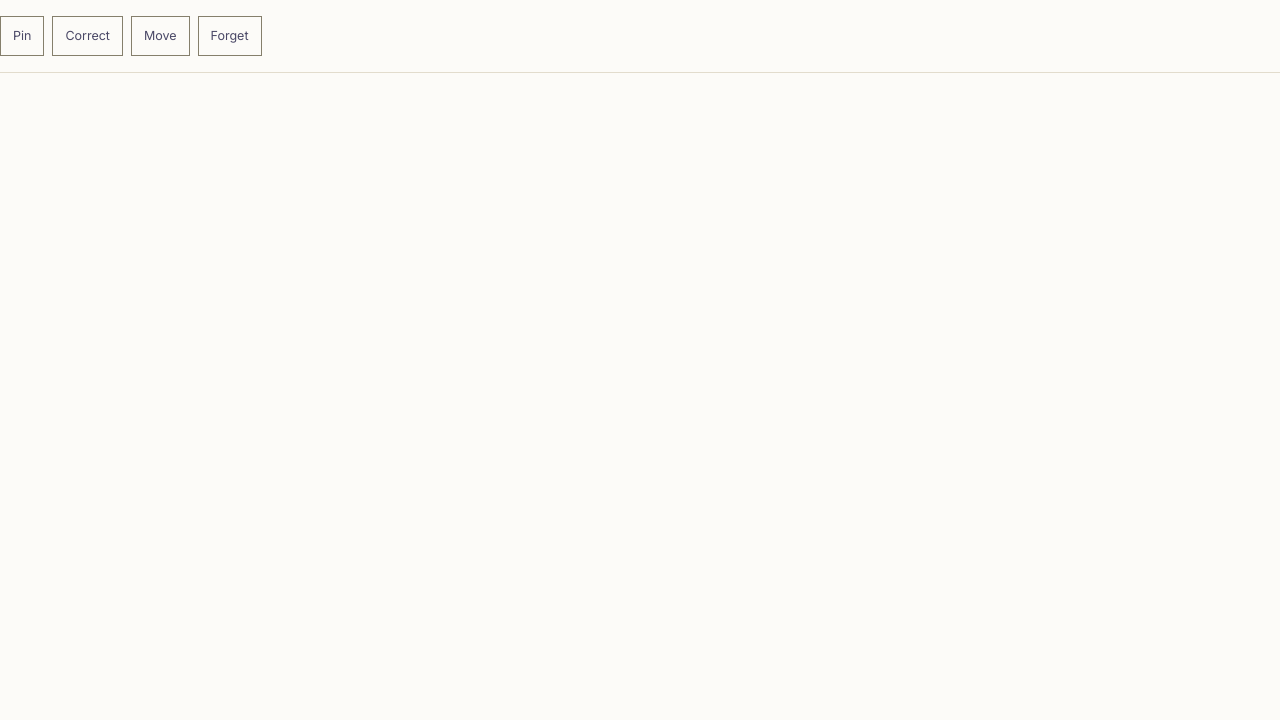
forget explains it closes validity, not a deletion, and cancelling sends nothing
The image size is (1280, 720).
Later steps or results of the test are not shown.
Click the button "Forget" at (230, 36), box [198,16,262,56]
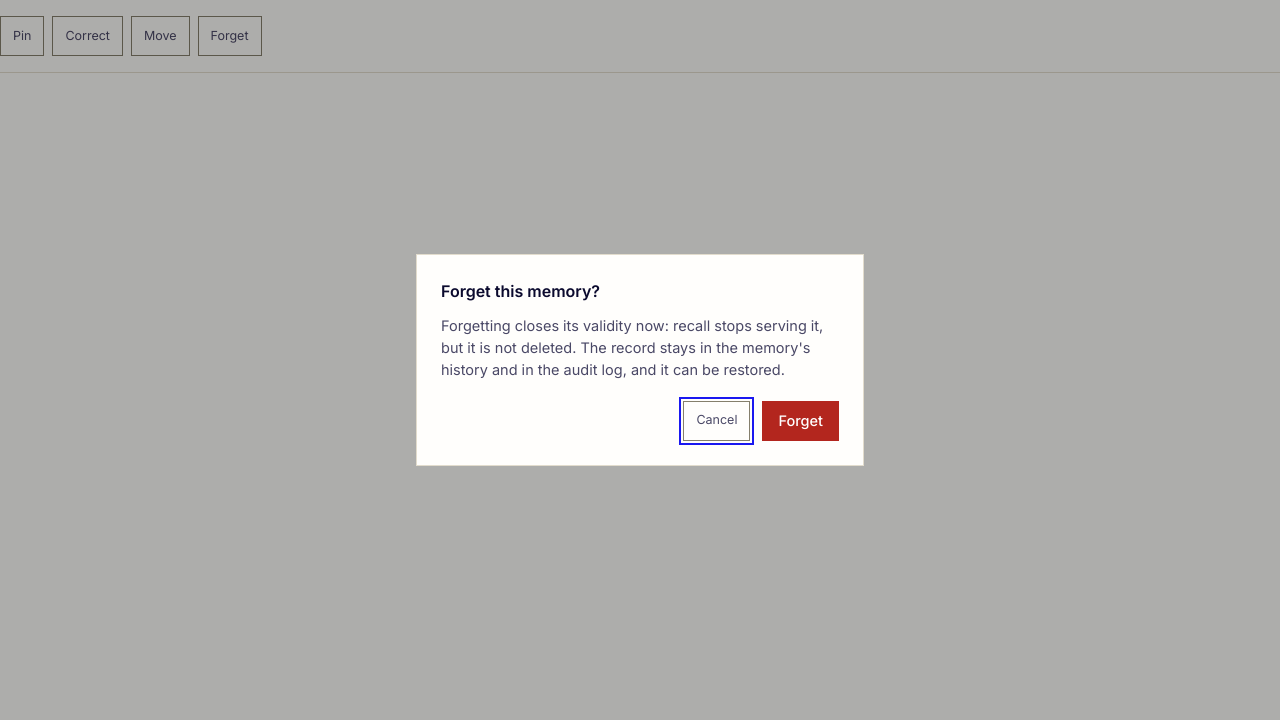
Expected: the dialog "Forget this memory?" shows "closes its validity", [441,317,823,378]
Expected: the dialog "Forget this memory?" shows "not deleted", [441,317,823,378]
